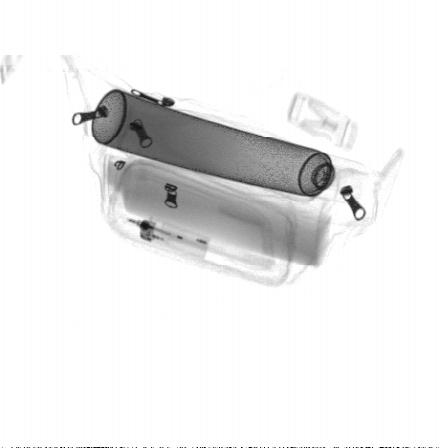Lighter: (136, 214, 212, 262)
Sprayer: (92, 89, 370, 203)
